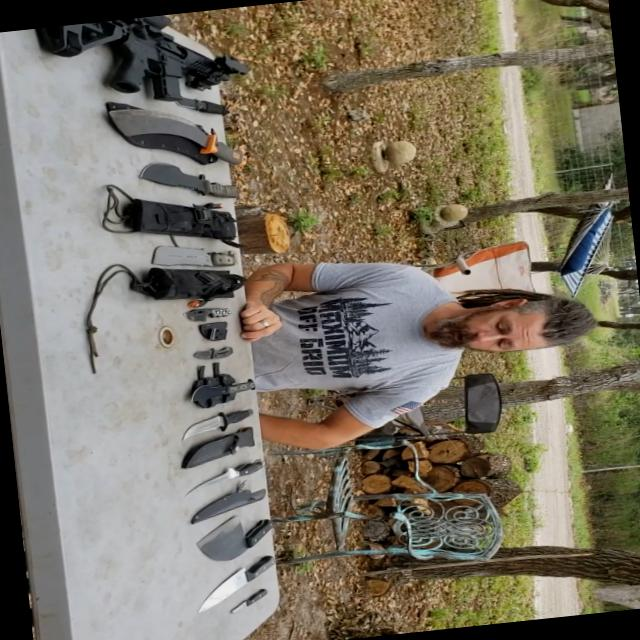knife: (88, 82, 257, 184), (129, 144, 252, 220), (186, 545, 292, 613), (166, 451, 286, 503), (187, 505, 281, 564), (142, 232, 247, 282), (158, 86, 242, 128), (182, 369, 266, 407), (182, 404, 262, 442), (177, 332, 246, 370), (223, 578, 280, 622), (174, 303, 248, 330)
long weapon: (25, 5, 264, 123)
